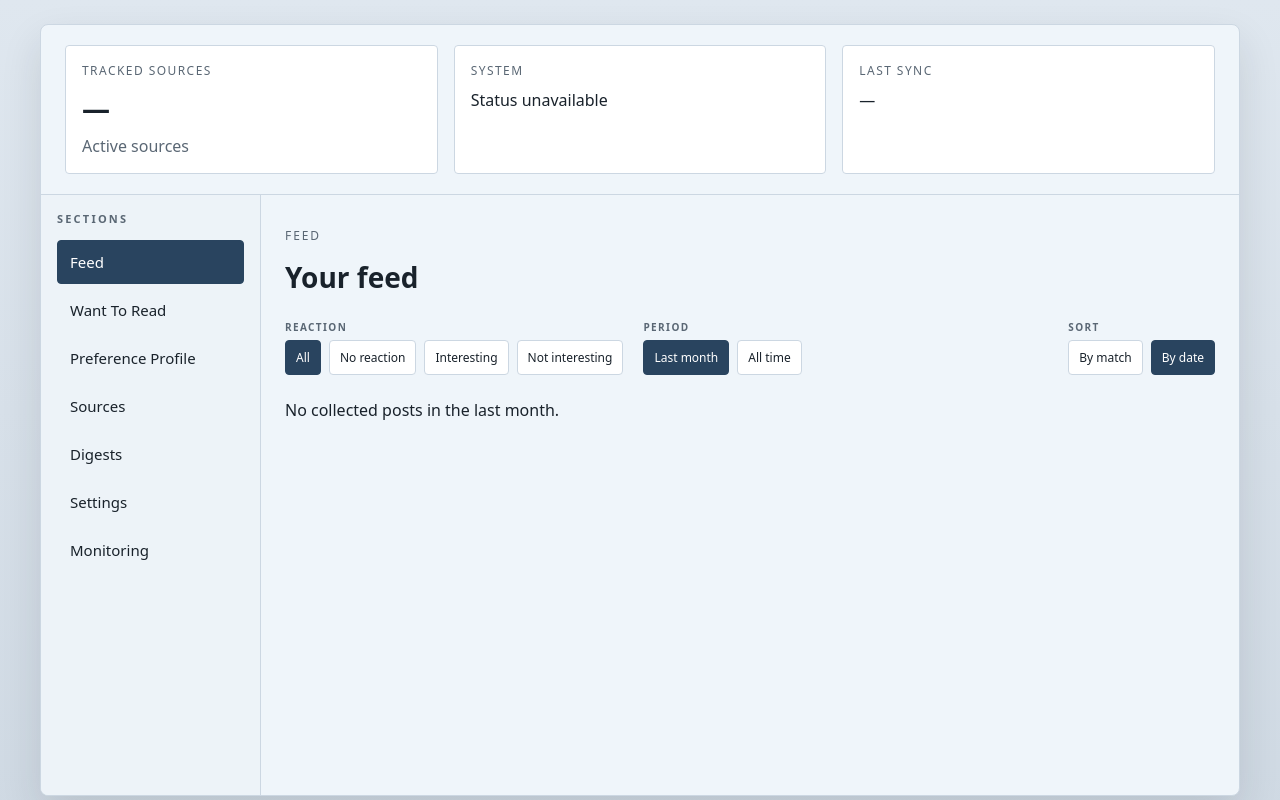
want to read page can remove a saved post without touching other tabs
Expected: the text "No collected posts in the last month." is shown, [285,399,559,421]
Click the button "Want To Read".
click(150, 310)  # box [57,288,244,332]
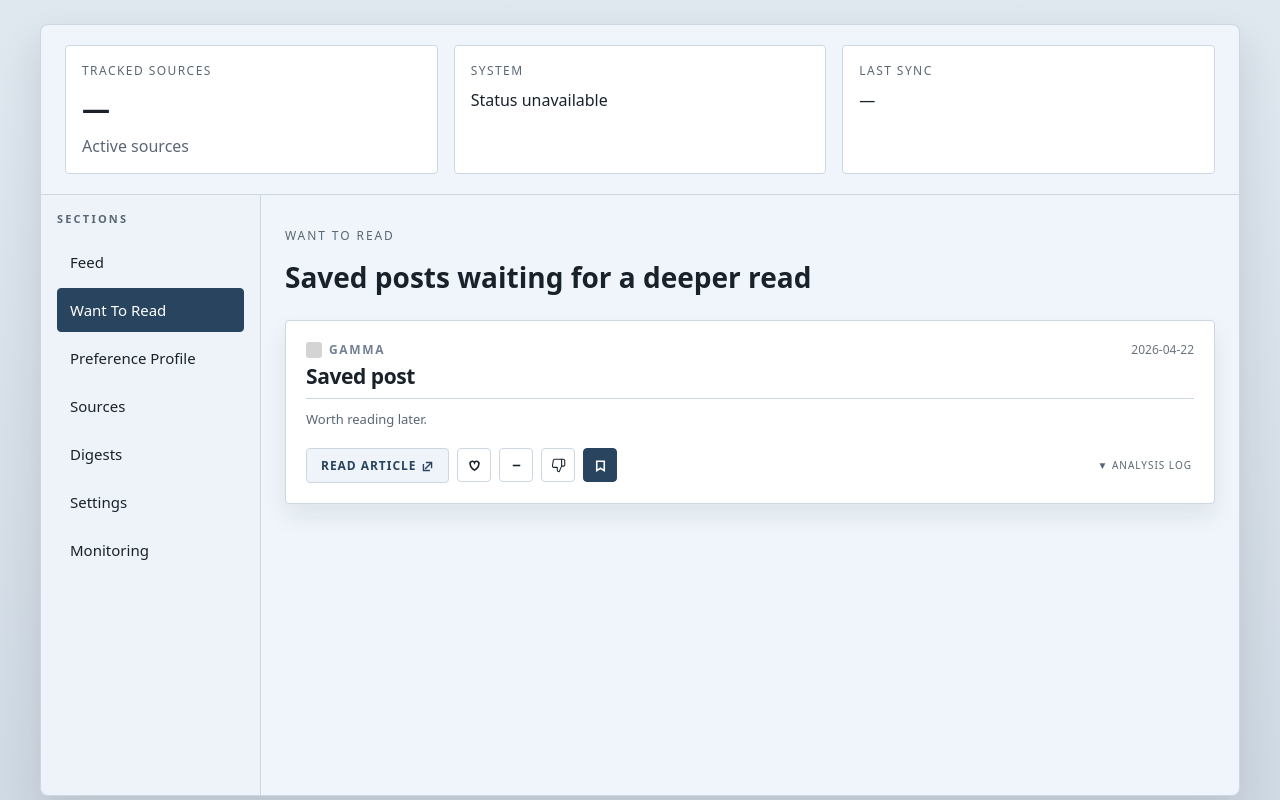
Result: the heading "Saved post" is shown at [306,364,415,388]
Click the button named "Remove from Read Later".
click(600, 465)  # box [583,448,617,482]
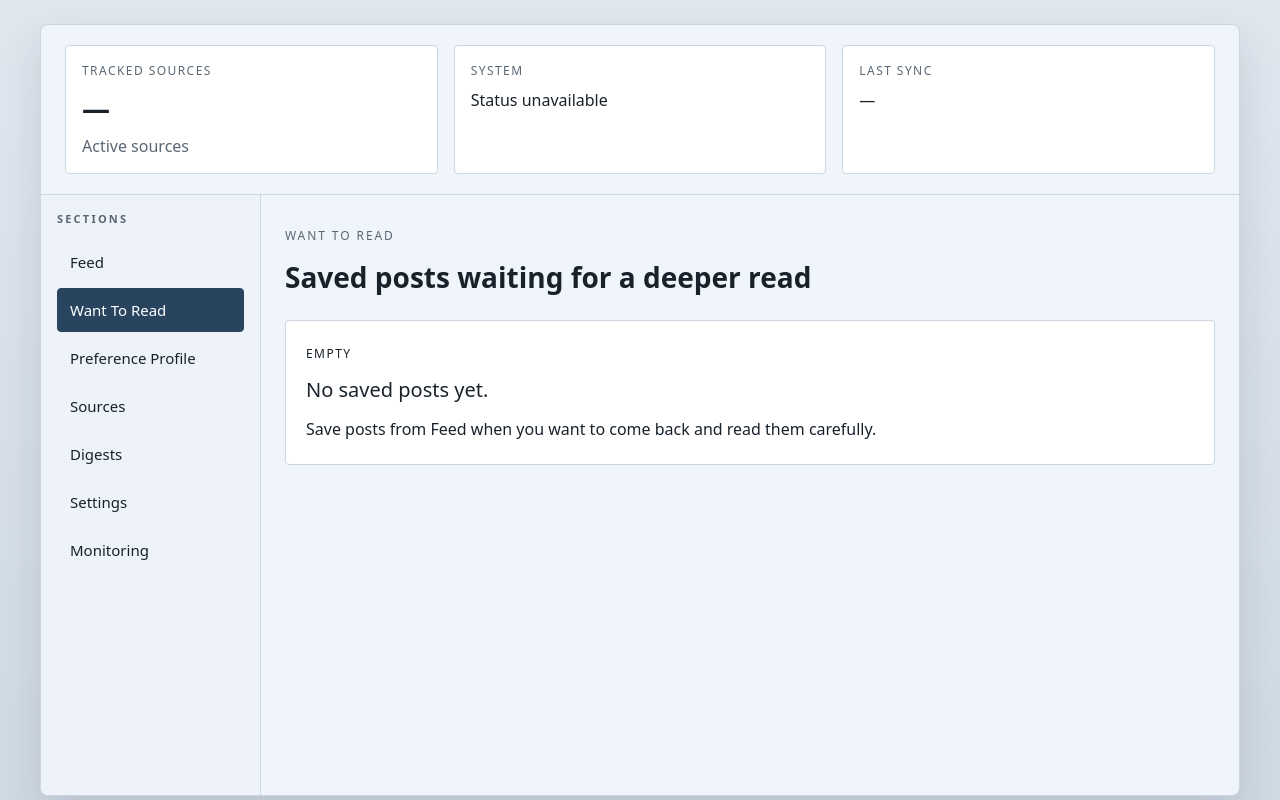
Result: the text "No saved posts yet." is shown at [306,376,488,403]
